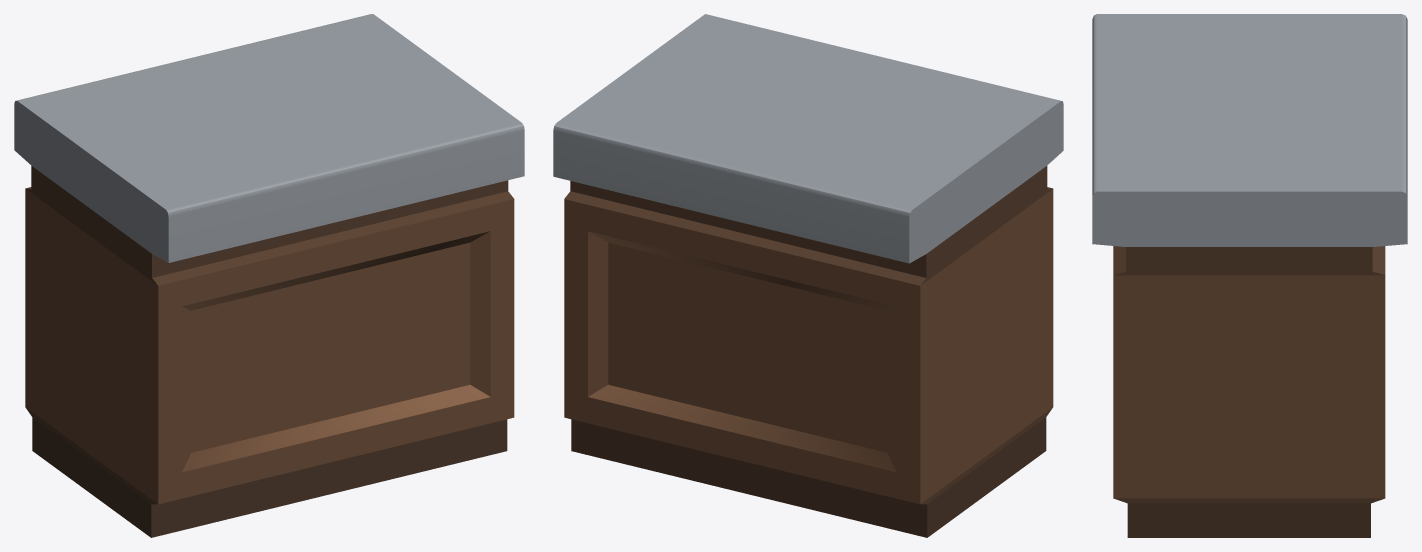
File: Counter_1m.fbx
3 renders of one model, left to right at view 1: azimuth 30°, elevation 25°; view 2: azimuth 150°, elevation 25°; view 3: azimuth 270°, elevation 25°, orthographic. The views are drawn at different scales.
Parts seen in each view (by area): view 1: Kitchen_Counter1m; view 2: Kitchen_Counter1m; view 3: Kitchen_Counter1m.
Boxes of the visible parts, x1=… form: Kitchen_Counter1m: x1=14, y1=14, x2=524, y2=537; Kitchen_Counter1m: x1=553, y1=14, x2=1063, y2=537; Kitchen_Counter1m: x1=1092, y1=14, x2=1407, y2=537.
Bounding box in the file's own units: 100 × 90.96 × 75.03.
